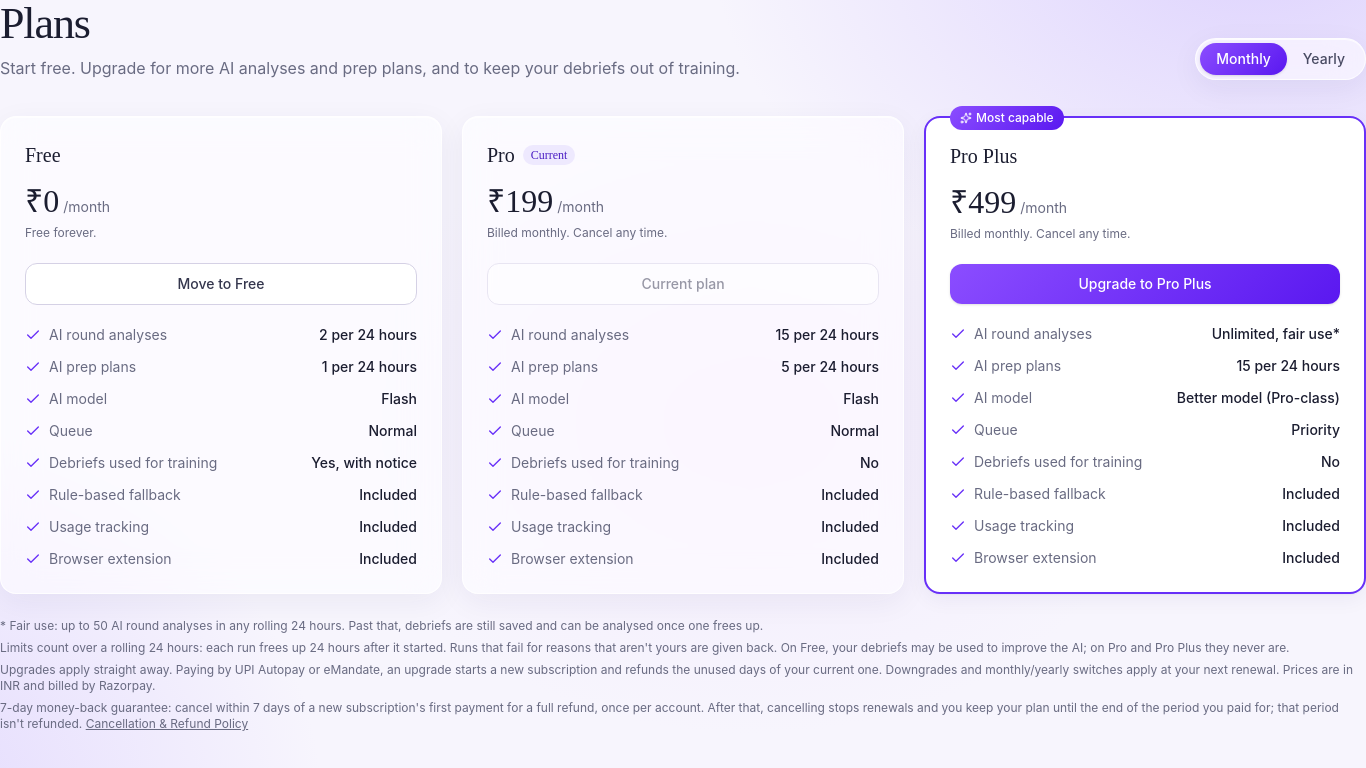
Test: pricing page › upgrades a UPI subscriber by paying for the new plan, showing what comes back
Expected: the heading "Pro Plus" is shown, [950,145,1017,167]
Step 1. Click the button "Upgrade to Pro Plus" → (1145, 284), box [950,264,1340,304]
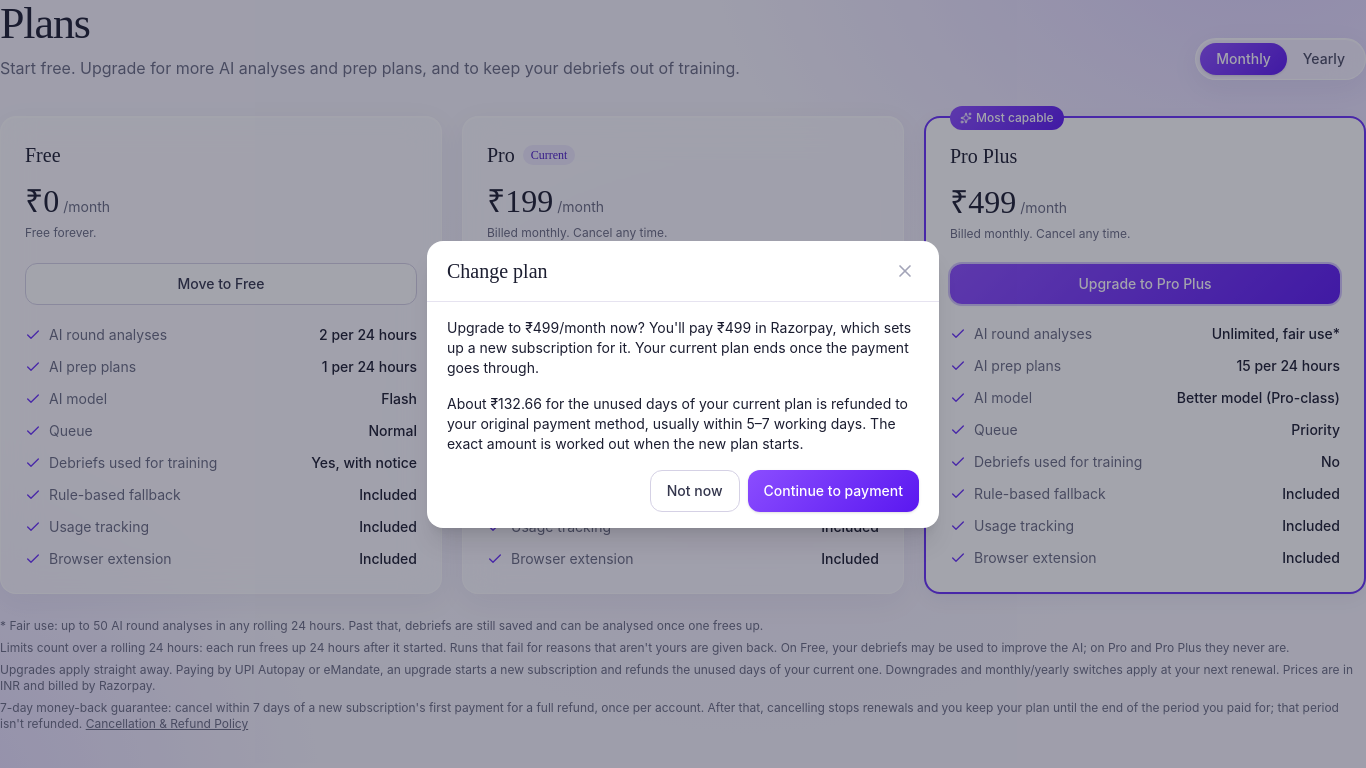
Expected: the text "You'll pay ₹499 in Razorpay" is shown, [447,318,919,378]
Expected: the dialog "Change plan" shows "About ₹132.66 for the unused days of your current plan is refunded", [447,394,908,452]
Step 2. Click the button "Continue to payment" → (833, 490), box [748,470,919,512]
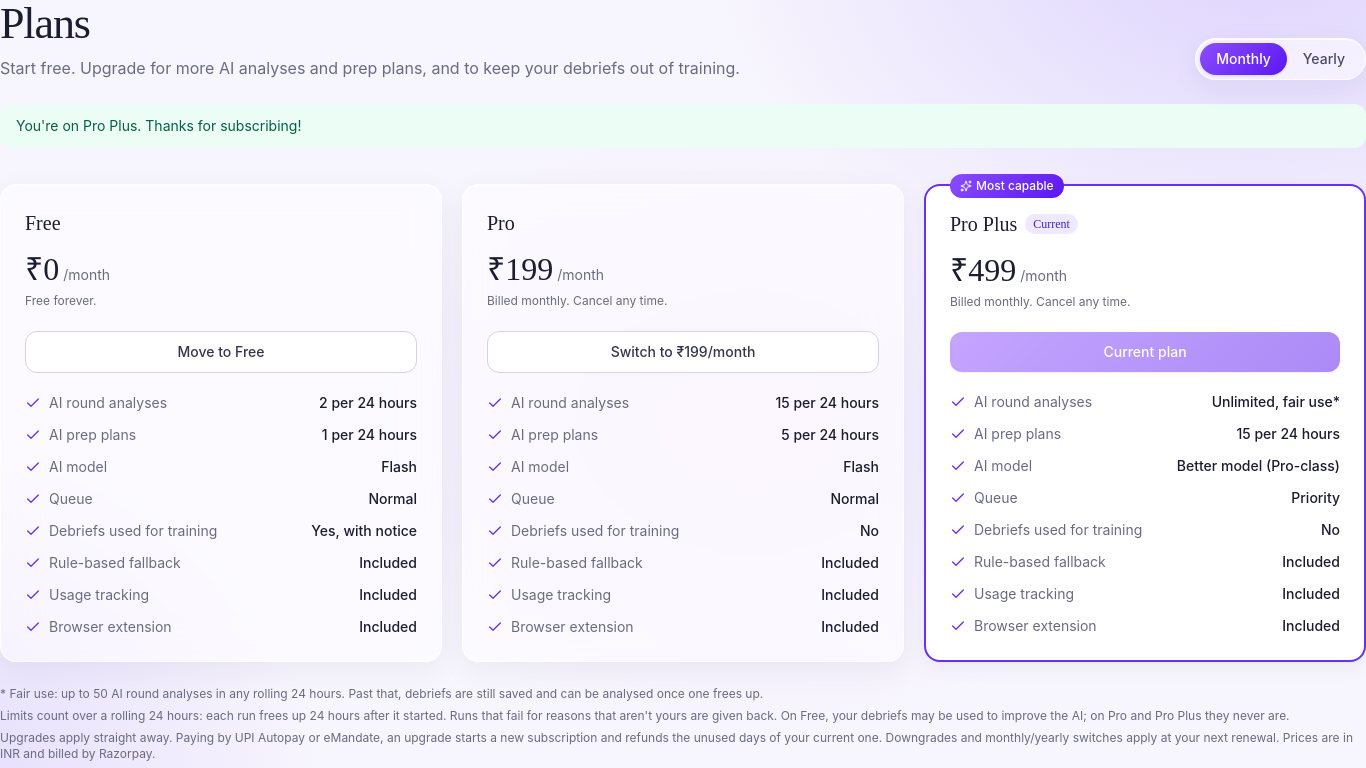
Expected: the text "You're on Pro Plus. Thanks for subscribing!" is shown, [16,116,301,136]
